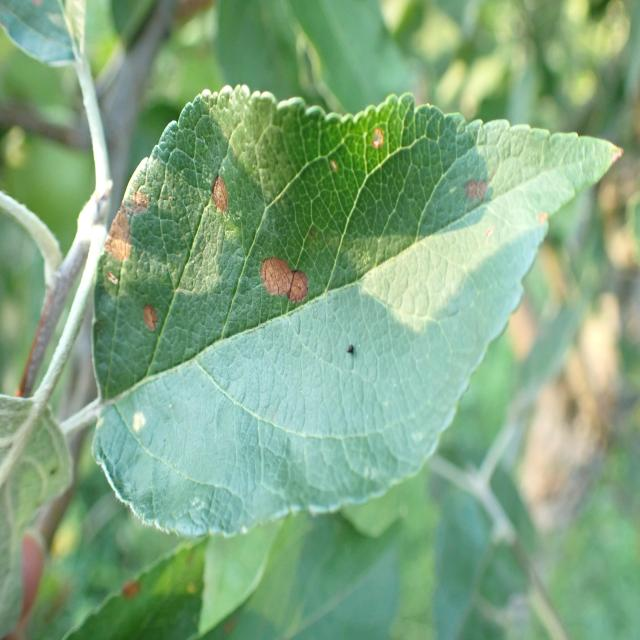Black Rot: (106, 170, 155, 285), (253, 247, 315, 316), (455, 162, 500, 218), (206, 149, 235, 231), (362, 119, 405, 158), (130, 396, 163, 436), (136, 299, 156, 362)
